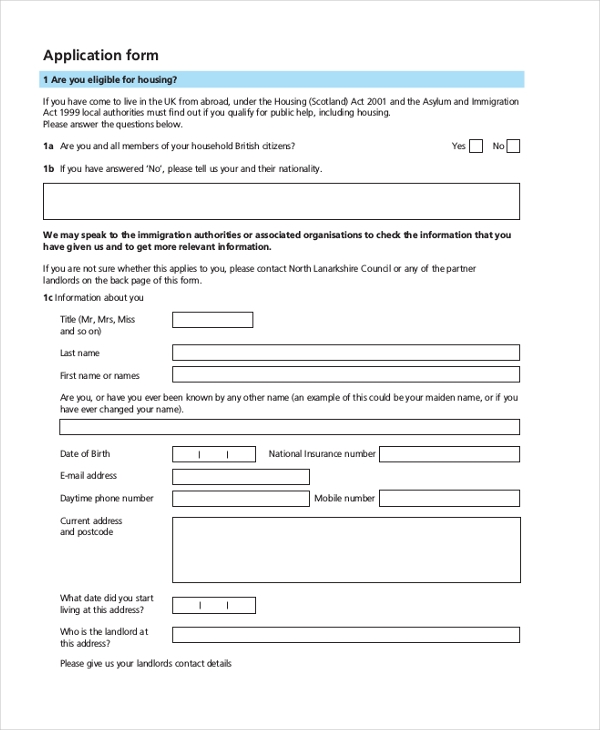checkbox: (504, 136, 524, 156), (467, 137, 485, 154)
textbox: (170, 515, 523, 586), (40, 179, 523, 222), (57, 416, 523, 437), (169, 341, 522, 363), (169, 364, 524, 385), (170, 624, 522, 645), (377, 486, 523, 509), (377, 442, 523, 464), (171, 466, 312, 487), (172, 489, 312, 507), (168, 593, 260, 616), (170, 441, 257, 464), (170, 307, 255, 330), (170, 594, 200, 616), (200, 441, 227, 464), (229, 595, 260, 615), (229, 442, 257, 464), (201, 594, 226, 617), (171, 443, 199, 463)
